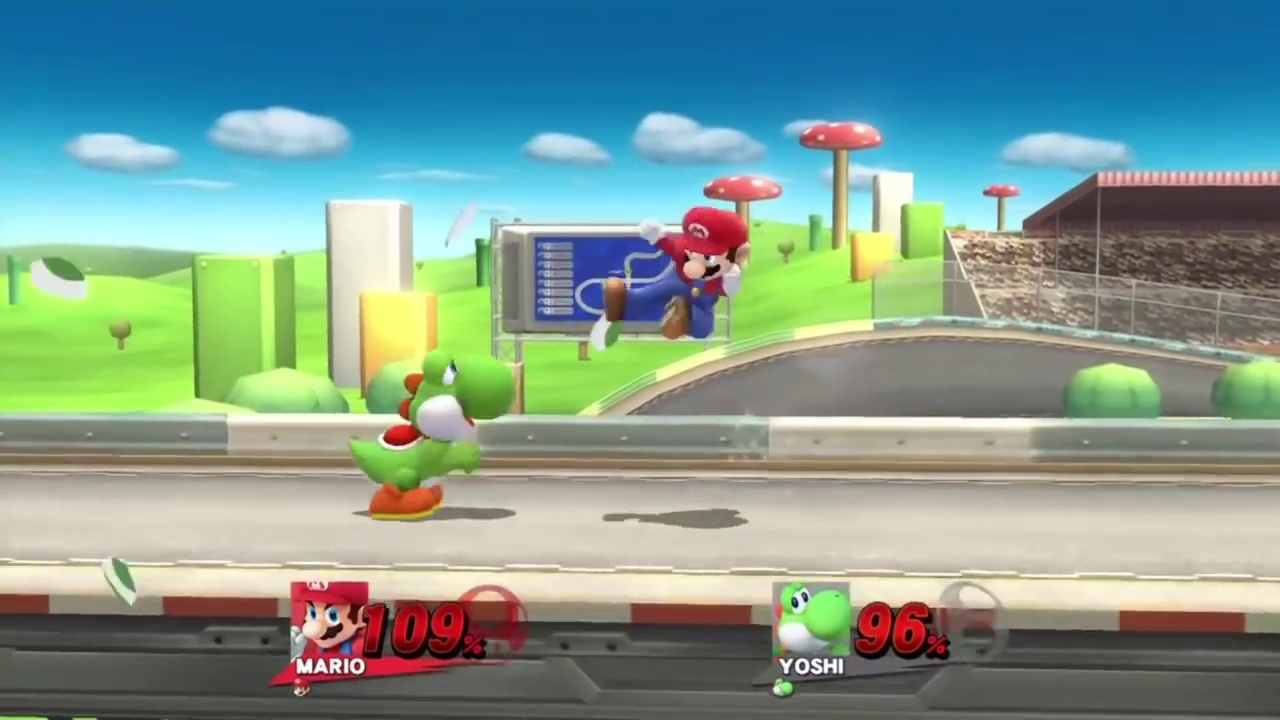Mario: (603, 205, 753, 340)
